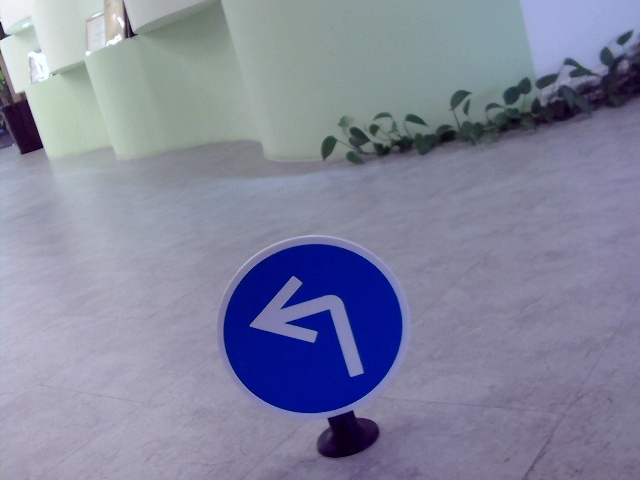turn_left: (250, 275, 368, 378)
